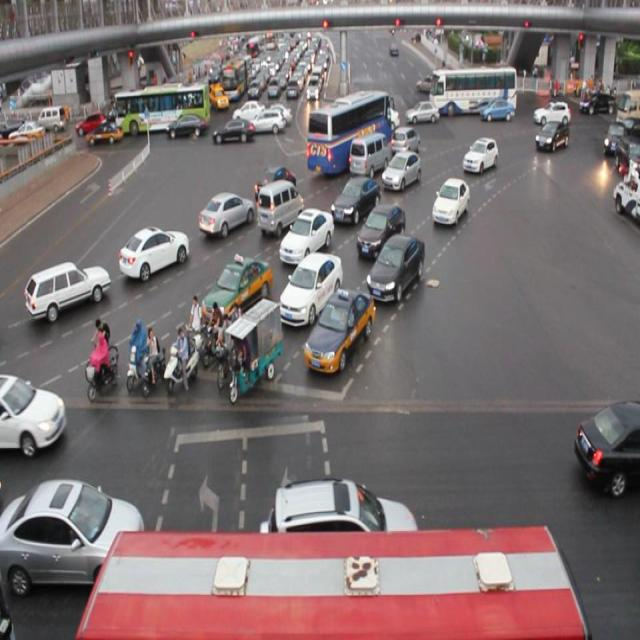car: (1, 481, 146, 592), (263, 478, 420, 557), (573, 398, 640, 496), (302, 289, 374, 376), (200, 252, 273, 337), (1, 370, 68, 460), (25, 261, 109, 323), (278, 250, 342, 326), (364, 230, 425, 305), (119, 226, 189, 278), (279, 209, 334, 265), (329, 176, 380, 227), (356, 206, 404, 257), (199, 191, 254, 233), (431, 177, 468, 227), (253, 167, 297, 206), (382, 150, 422, 191), (462, 137, 498, 175), (533, 122, 567, 151), (390, 127, 420, 156)
truck: (256, 180, 304, 235), (340, 138, 383, 183)
van: (76, 527, 588, 640), (306, 90, 392, 174)
